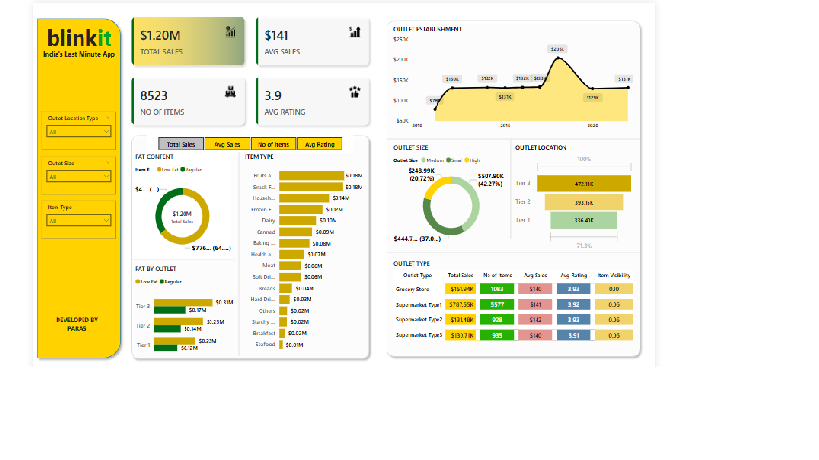

What the dashboard file says about the page in this screenshot:
{"tool":"powerbi","page":{"name":"Page 1","canvas":[1400,800],"ordinal":0},"visuals":[{"type":"shape","box":[0,24.1,205.6,750.2],"z":0},{"type":"textbox","box":[14.5,35.3,175.1,75.5],"z":1000},{"type":"textbox","box":[8,93.2,188,35.3],"z":2000},{"type":"cardVisual","fields":{"Data":["BlinkIT Grocery Data.Total Sales","BlinkIT Grocery Data.Avg Sales","BlinkIT Grocery Data.No of Items","BlinkIT Grocery Data.Avg Rating"]},"box":[204,11.2,570.3,269.9],"z":3000},{"type":"shape","box":[212,274.7,554.2,499.6],"z":3001},{"type":"donutChart","title":"FAT CONTENT","fields":{"Category":["BlinkIT Grocery Data.Item Fat Content"],"Y":["BlinkIT Grocery Data.Total Sales"]},"box":[225,321.7,220,230],"z":3002},{"type":"slicer","fields":{"Values":["Metricx.Metricx"]},"box":[255,281.7,465,40],"z":3003},{"type":"cardVisual","fields":{"Data":["BlinkIT Grocery Data.Total Sales"]},"box":[273.3,411.7,123.3,95],"z":3004},{"type":"clusteredBarChart","title":"FAT BY OUTLET","fields":{"Y":["BlinkIT Grocery Data.Total Sales"],"Category":["BlinkIT Grocery Data.Outlet Location Type"],"Series":["BlinkIT Grocery Data.Item Fat Content"]},"box":[225,563.3,230,210],"z":3005},{"type":"shape","box":[220,540,235,23.3],"z":3006},{"type":"shape","box":[455,320,16.7,440],"z":3007},{"type":"barChart","title":"ITEM TYPE","fields":{"Category":["BlinkIT Grocery Data.Item Type"],"Y":["BlinkIT Grocery Data.Total Sales"]},"box":[471.7,321.7,275,438.3],"z":3008},{"type":"shape","box":[786.7,28.3,590,741.7],"z":3009},{"type":"lineChart","title":"OUTLET ESTABLISHMENT","fields":{"Y":["BlinkIT Grocery Data.Total Sales"],"Category":["BlinkIT Grocery Data.Outlet Establishment Year"]},"box":[806.7,46.7,550,235],"z":3010},{"type":"shape","box":[796.7,281.7,570,20],"z":3011},{"type":"donutChart","title":"OUTLET SIZE","fields":{"Y":["BlinkIT Grocery Data.Total Sales"],"Category":["BlinkIT Grocery Data.Outlet Size"]},"box":[806.7,301.7,270,225],"z":3012},{"type":"shape","box":[1068.3,291.7,13.3,215],"z":3013},{"type":"funnel","title":"OUTLET LOCATION","fields":{"Y":["Sum(BlinkIT Grocery Data.Sales)"],"Category":["BlinkIT Grocery Data.Outlet Location Type"]},"box":[1081.7,301.7,275,235],"z":3014},{"type":"shape","box":[796.7,526.7,570,20],"z":3015},{"type":"pivotTable","title":"OUTLET TYPE","fields":{"Values":["BlinkIT Grocery Data.Total Sales","BlinkIT Grocery Data.No of Items","BlinkIT Grocery Data.Avg Sales","BlinkIT Grocery Data.Avg Rating","Avg(BlinkIT Grocery Data.Item Visibility)"],"Rows":["BlinkIT Grocery Data.Outlet Type"]},"box":[806.7,551.7,550,196.7],"z":3016},{"type":"slicer","fields":{"Values":["BlinkIT Grocery Data.Outlet Location Type"]},"box":[18.3,233.3,168.3,81.7],"z":3017},{"type":"slicer","fields":{"Values":["BlinkIT Grocery Data.Outlet Size"]},"box":[18.3,330,168.3,81.7],"z":3018},{"type":"slicer","fields":{"Values":["BlinkIT Grocery Data.Item Type"]},"box":[18.3,425,168.3,81.7],"z":3019},{"type":"textbox","box":[30,668.3,135,46.7],"z":3020}]}

Visuals, with their boxes in screenshot pixels (x1, y1, x2, y2), scaled from the page's 1400x800 canvas onto the 819x460 screenshot:
shape: (x1=0, y1=14, x2=120, y2=445)
textbox: (x1=8, y1=20, x2=111, y2=64)
textbox: (x1=5, y1=54, x2=115, y2=74)
cardVisual - BlinkIT Grocery Data.Total Sales x BlinkIT Grocery Data.Avg Sales: (x1=119, y1=6, x2=453, y2=162)
shape: (x1=124, y1=158, x2=448, y2=445)
"FAT CONTENT" donutChart: (x1=132, y1=185, x2=260, y2=317)
slicer - Metricx.Metricx: (x1=149, y1=162, x2=421, y2=185)
cardVisual - BlinkIT Grocery Data.Total Sales: (x1=160, y1=237, x2=232, y2=291)
"FAT BY OUTLET" clusteredBarChart: (x1=132, y1=324, x2=266, y2=445)
shape: (x1=129, y1=310, x2=266, y2=324)
shape: (x1=266, y1=184, x2=276, y2=437)
"ITEM TYPE" barChart: (x1=276, y1=185, x2=437, y2=437)
shape: (x1=460, y1=16, x2=805, y2=443)
"OUTLET ESTABLISHMENT" lineChart: (x1=472, y1=27, x2=794, y2=162)
shape: (x1=466, y1=162, x2=800, y2=173)
"OUTLET SIZE" donutChart: (x1=472, y1=173, x2=630, y2=303)
shape: (x1=625, y1=168, x2=633, y2=291)
"OUTLET LOCATION" funnel: (x1=633, y1=173, x2=794, y2=309)
shape: (x1=466, y1=303, x2=800, y2=314)
"OUTLET TYPE" pivotTable: (x1=472, y1=317, x2=794, y2=430)
slicer - BlinkIT Grocery Data.Outlet Location Type: (x1=11, y1=134, x2=109, y2=181)
slicer - BlinkIT Grocery Data.Outlet Size: (x1=11, y1=190, x2=109, y2=237)
slicer - BlinkIT Grocery Data.Item Type: (x1=11, y1=244, x2=109, y2=291)
textbox: (x1=18, y1=384, x2=97, y2=411)
